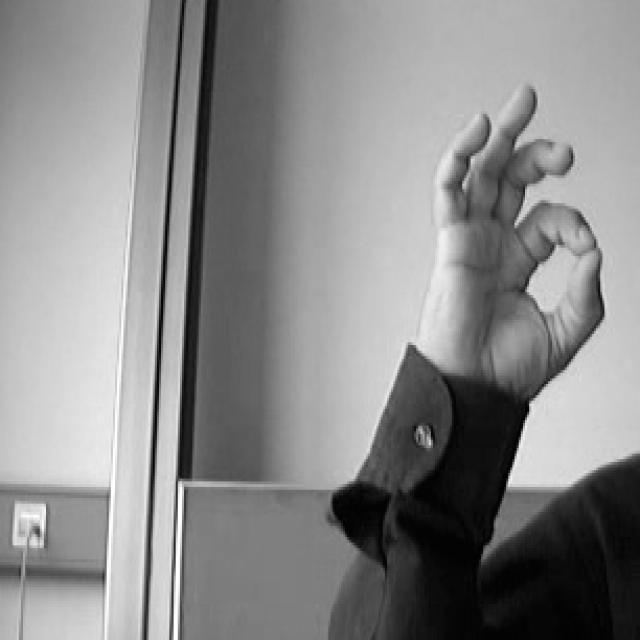F: (417, 71, 612, 402)
